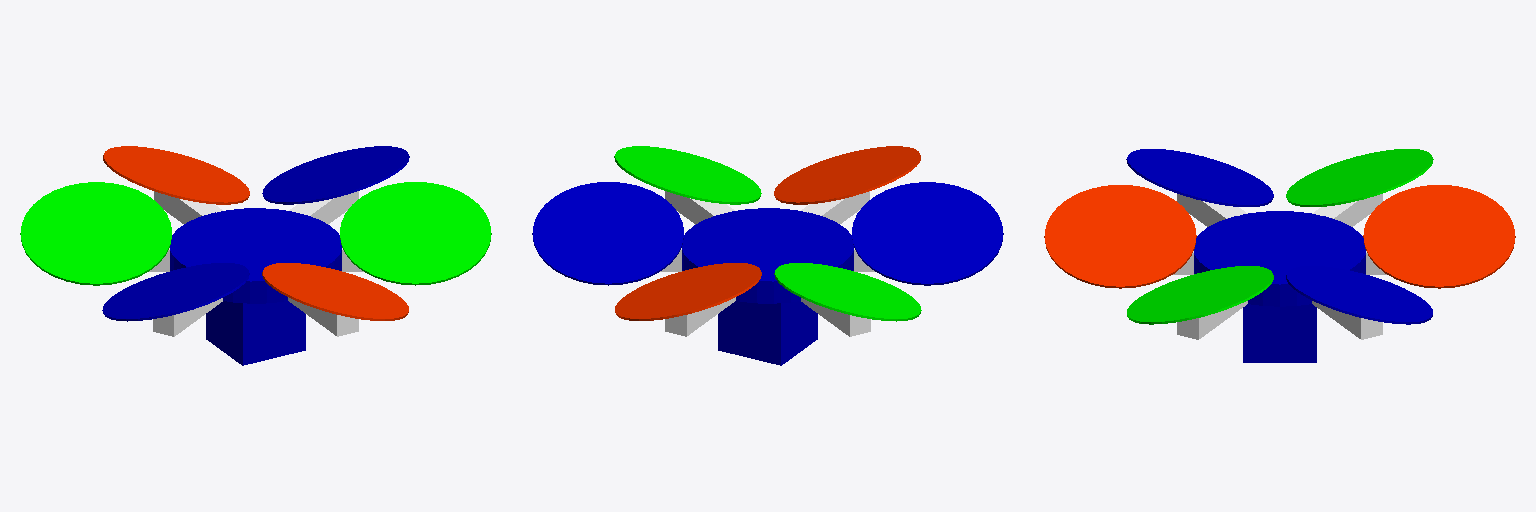
The robot description file, URDF, robot "morphing_robust":
<?xml version="1.0" ?>

<robot name="morphing_robust">

  <material name="white">
    <color rgba="1. 1. 1. 1.0"/>
  </material>

  <material name="black">
    <color rgba="0. 0. 0. 1.0"/>
  </material>

  <material name="blue0">
    <color rgba="15./255. 141./255. 238./255. 1.0"/>
  </material>

  <material name="darkgrey">
    <color rgba="0.4 0.4 0.4 1.0"/>
  </material>

  <material name="blue1">
    <color rgba="0.06 0.46 0.9 0.6"/>
  </material>

  <configuration type="morphing_hexa"/>

  <properties arm="1.0635" kf="1.9e-8" km="1.9e-9" thrust2weight="4" max_speed_kmh="30" gnd_eff_coeff="11.36859" prop_radius="6.7e-2" drag_coeff_xy="9.1785e-7" drag_coeff_z="10.311e-7" dw_coeff_1="2267.18" dw_coeff_2=".16" dw_coeff_3="-.11"/>

  <control>
    <indi actuator_nr="6" output_nr="6" />
    <indi_1 roll="  -7.5  -15.0   -7.5   7.5  15.0  7.5" />
    <indi_2 pitch=" -13.0   0.0   13.0  13.0   0.0 -13.0" />
    <indi_3 yaw="   -5.0    5.0   -5.0   5.0  -5.0   5.0" />
    <indi_4 fx=" -2.    4.   -2.   -2.    4.   -2." />
    <indi_5 fy=" -3.    0.   3.    -3.    0.   3." />
    <indi_6 fz="  1.5   1.5   1.5   1.5   1.5   1.5" />
<!--     <indi_4 fx=" -0.2    0.4    -0.2   -0.2   0.4   -0.2" />
    <indi_5 fy="  0.3    0.0    -0.3    0.3   0.0   -0.3" />
    <indi_6 fz="  1.5    1.5     1.5    1.5   1.5    1.5" /> -->

    <indi_guidance_gains>
      <pos kp="1.7" kd="2.5"/>
    </indi_guidance_gains>
    
    <indi_att_gains>
      <att  p="10." q="10." r="5." />
      <rate p="18." q="18." r="12." />
    </indi_att_gains>

    <pwm>
      <pwm2rpm scale="20000. 20000. 20000. 20000. 20000. 20000." const="0. 0. 0. 0. 0. 0." />
      <limit min="0. 0. 0. 0. 0. 0." max="1. 1. 1. 1. 1. 1." />
    </pwm>
  </control>



  <link name="mainbody">
    <visual>
      <geometry>
        <cylinder radius=".071" length=".02"/>
        <origin rpy="0 0 0" xyz="0.0 0.0 0.01"/>
      </geometry>
<!--       <geometry>
        <box size="0.2 0.01 0.01"/>
        <origin rpy="0 0 0" xyz="0.10 0.0 0.0"/>
      </geometry> -->
      <material name="blue">
        <color rgba="0 0 .8 1"/>
      </material>
    </visual>
    <collision>
      <geometry>
          <cylinder radius=".07" length=".02"/>
      </geometry>
      <origin xyz="0.0 0.0 0.0"/>
    </collision>
    <inertial>
      <mass value="0.2"/>
      <inertia ixx="2.0e-3" ixy="0.0" ixz="0.0" iyy="2.0e-3" iyz="0.0" izz="4.0e-3"/>
    </inertial>
  </link>

<link name="prop1">
    <visual>
      <geometry>
        <cylinder radius=".062" length=".002"/>
        <origin rpy="0 0 0" xyz="0.0 0.0 0.0"/>
      </geometry>
      <material name="green">
        <color rgba="0 1 0 0.4"/>
      </material>
    </visual>
    <inertial>
    <origin xyz="0.0 0.0 0.001"/>
      <mass value="0.03"/>
      <inertia ixx="1.0e-9" ixy="0.0" ixz="0.0" iyy="1.0e-9" iyz="0.0" izz="1.0e-9"/>
    </inertial>
     <collision>
      <geometry>
        <cylinder radius=".062" length=".002"/>
      </geometry>
      <origin rpy="0 0 0" xyz="0.0 0.0 0.001"/>
    </collision>
  </link>

<link name="prop2">
    <visual>
      <geometry>
        <cylinder radius=".062" length=".002"/>
        <origin rpy="0 0 0" xyz="0.0 0.0 0.0"/>
      </geometry>
      <material name="orange red">
        <color rgba="1 0.25 0 0.4"/>
      </material>
    </visual>
    <inertial>
    <origin xyz="0.0 0.0 0.001"/>
      <mass value="0.03"/>
      <inertia ixx="1.0e-9" ixy="0.0" ixz="0.0" iyy="1.0e-9" iyz="0.0" izz="1.0e-9"/>
    </inertial>
     <collision>
      <geometry>
        <cylinder radius=".062" length=".002"/>
      </geometry>
      <origin rpy="0 0 0" xyz="0.0 0.0 0.001"/>
    </collision>
  </link>

<link name="prop3">
    <visual>
      <geometry>
        <cylinder radius=".062" length=".002"/>
        <origin rpy="0 0 0" xyz="0.0 0.0 0.0"/>
      </geometry>
      <material name="blue_t">
        <color rgba="0 0 0.8 0.4"/>
      </material>
    </visual>
    <inertial>
    <origin xyz="0.0 0.0 0.001"/>
      <mass value="0.03"/>
      <inertia ixx="1.0e-9" ixy="0.0" ixz="0.0" iyy="1.0e-9" iyz="0.0" izz="1.0e-9"/>
    </inertial>
     <collision>
      <geometry>
        <cylinder radius=".062" length=".002"/>
      </geometry>
      <origin rpy="0 0 0" xyz="0.0 0.0 0.001"/>
    </collision>
  </link>

<link name="prop4">
    <visual>
      <geometry>
        <cylinder radius=".062" length=".002"/>
        <origin rpy="0 0 0" xyz="0.0 0.0 0.0"/>
      </geometry>
      <material name="green">
        <color rgba="0 1 0 0.4"/>
      </material>
    </visual>
    <inertial>
    <origin xyz="0.0 0.0 0.001"/>
      <mass value="0.03"/>
      <inertia ixx="1.0e-9" ixy="0.0" ixz="0.0" iyy="1.0e-9" iyz="0.0" izz="1.0e-9"/>
    </inertial>
     <collision>
      <geometry>
        <cylinder radius=".062" length=".002"/>
      </geometry>
      <origin rpy="0 0 0" xyz="0.0 0.0 0.001"/>
    </collision>
  </link>

<link name="prop5">
    <visual>
      <geometry>
        <cylinder radius=".062" length=".002"/>
        <origin rpy="0 0 0" xyz="0.0 0.0 0.0"/>
      </geometry>
      <material name="orange red">
        <color rgba="1 0.25 0 0.4"/>
      </material>
    </visual>
    <inertial>
    <origin xyz="0.0 0.0 0.001"/>
      <mass value="0.03"/>
      <inertia ixx="1.0e-9" ixy="0.0" ixz="0.0" iyy="1.0e-9" iyz="0.0" izz="1.0e-9"/>
    </inertial>
     <collision>
      <geometry>
        <cylinder radius=".062" length=".002"/>
      </geometry>
      <origin rpy="0 0 0" xyz="0.0 0.0 0.001"/>
    </collision>
  </link>

<link name="prop6">
    <visual>
      <geometry>
        <cylinder radius=".062" length=".002"/>
        <origin rpy="0 0 0" xyz="0.0 0.0 0.0"/>
      </geometry>
      <material name="blue_t">
        <color rgba="0 0 0.8 0.4"/>
      </material>
    </visual>
    <inertial>
    <origin xyz="0.0 0.0 0.001"/>
      <mass value="0.03"/>
      <inertia ixx="1.0e-9" ixy="0.0" ixz="0.0" iyy="1.0e-9" iyz="0.0" izz="1.0e-9"/>
    </inertial>
     <collision>
      <geometry>
        <cylinder radius=".062" length=".002"/>
      </geometry>
      <origin rpy="0 0 0" xyz="0.0 0.0 0.001"/>
    </collision>
  </link>

  <link name="landinggear">
    <visual>
      <geometry>
        <box size="0.06 0.06 0.06"/>
        <origin rpy="0 0 0" xyz="0.0 0.0 0.0"/>
      </geometry>
      <material name="blue">
        <color rgba="0 0 .8 1"/>
      </material>
    </visual>
    <collision>
      <geometry>
          <box size="0.06 0.06 0.06"/>
      </geometry>
      <origin xyz="0.0 0.0 0.0"/>
    </collision>
    <inertial>
      <mass value="0.3"/>
      <inertia ixx="1.0e-9" ixy="0.0" ixz="0.0" iyy="1.0e-9" iyz="0.0" izz="1.0e-9"/>
    </inertial>
  </link>

<link name="arm1">
    <visual>
      <geometry>
        <box size="0.08 0.02 0.02"/> 
      </geometry>
      <origin rpy="0 0 0" xyz="0.04 0.0 0.0"/>
      <material name="white">
        <color rgba="1 1 1 1"/>
      </material>
    </visual>
    <inertial>
    <origin xyz="0.04 0.01 0.01"/>
      <mass value="0.03"/>
      <inertia ixx="1.0e-9" ixy="0.0" ixz="0.0" iyy="1.0e-9" iyz="0.0" izz="1.0e-9"/>
    </inertial>
     <collision>
      <geometry>
        <box size="0.08 0.02 0.02"/> 
      </geometry>
      <origin rpy="0 0 0" xyz="0.04 0.01 0.01"/>
    </collision>
  </link>

<link name="arm2">
    <visual>
      <geometry>
        <box size="0.08 0.02 0.02"/> 
      </geometry>
      <origin rpy="0 0 0" xyz="0.04 0.0 0.0"/>
      <material name="white">
        <color rgba="1 1 1 1"/>
      </material>
    </visual>
    <inertial>
    <origin xyz="0.04 0.01 0.01"/>
      <mass value="0.03"/>
      <inertia ixx="1.0e-9" ixy="0.0" ixz="0.0" iyy="1.0e-9" iyz="0.0" izz="1.0e-9"/>
    </inertial>
     <collision>
      <geometry>
        <box size="0.08 0.02 0.02"/> 
      </geometry>
      <origin rpy="0 0 0" xyz="0.04 0.01 0.01"/>
    </collision>
  </link>

  <link name="arm3">
    <visual>
      <geometry>
        <box size="0.08 0.02 0.02"/> 
      </geometry>
      <origin rpy="0 0 0" xyz="0.04 0.0 0.0"/>
      <material name="white">
        <color rgba="1 1 1 1"/>
      </material>
    </visual>
    <inertial>
    <origin xyz="0.04 0.01 0.01"/>
      <mass value="0.03"/>
      <inertia ixx="1.0e-9" ixy="0.0" ixz="0.0" iyy="1.0e-9" iyz="0.0" izz="1.0e-9"/>
    </inertial>
     <collision>
      <geometry>
        <box size="0.08 0.02 0.02"/> 
      </geometry>
      <origin rpy="0 0 0" xyz="0.04 0.01 0.01"/>
    </collision>
  </link>

    <link name="arm4">
     <visual>
      <geometry>
        <box size="0.08 0.02 0.02"/> 
      </geometry>
      <origin rpy="0 0 0" xyz="0.04 0.0 0.0"/>
      <material name="white">
        <color rgba="1 1 1 1"/>
      </material>
    </visual>
    <inertial>
    <origin xyz="0.04 0.01 0.01"/>
      <mass value="0.03"/>
      <inertia ixx="1.0e-9" ixy="0.0" ixz="0.0" iyy="1.0e-9" iyz="0.0" izz="1.0e-9"/>
    </inertial>
     <collision>
      <geometry>
        <box size="0.08 0.02 0.02"/> 
      </geometry>
      <origin rpy="0 0 0" xyz="0.04 0.01 0.01"/>
    </collision>
  </link>

    <link name="arm5">
     <visual>
      <geometry>
        <box size="0.08 0.02 0.02"/> 
      </geometry>
      <origin rpy="0 0 0" xyz="0.04 0.0 0.0"/>
      <material name="white">
        <color rgba="1 1 1 1"/>
      </material>
    </visual>
    <inertial>
    <origin xyz="0.04 0.01 0.01"/>
      <mass value="0.03"/>
      <inertia ixx="1.0e-9" ixy="0.0" ixz="0.0" iyy="1.0e-9" iyz="0.0" izz="1.0e-9"/>
    </inertial>
     <collision>
      <geometry>
        <box size="0.08 0.02 0.02"/> 
      </geometry>
      <origin rpy="0 0 0" xyz="0.048 0.01 0.01"/>
    </collision>
  </link>

    <link name="arm6">
    <visual>
      <geometry>
        <box size="0.08 0.02 0.02"/> 
      </geometry>
      <origin rpy="0 0 0" xyz="0.04 0.0 0.0"/>
      <material name="white">
        <color rgba="1 1 1 1"/>
      </material>
    </visual>
    <inertial>
    <origin xyz="0.04 0.01 0.01"/>
      <mass value="0.03"/>
      <inertia ixx="1.0e-9" ixy="0.0" ixz="0.0" iyy="1.0e-9" iyz="0.0" izz="1.0e-9"/>
    </inertial>
     <collision>
      <geometry>
        <box size="0.08 0.02 0.02"/> 
      </geometry>
      <origin rpy="0 0 0" xyz="0.045 0.01 0.01"/>
    </collision>
  </link>

  <joint name="body_to_arm1" type="revolute">
    <axis xyz="0 0 1"/>
    <origin rpy="0 0 -0.523" xyz="0.061 -0.035 0"/>
    <parent link="mainbody"/>
    <child link="arm1"/>
    <limit effort="1" velocity="0.5"/>
    <joint_properties damping="0.0" friction="0.0"/>
  </joint>

    <joint name="body_to_arm2" type="revolute">
    <axis xyz="0 0 1"/>
    <origin rpy="0 0 -1.57" xyz="0.0 -0.07 0"/>
    <parent link="mainbody"/>
    <child link="arm2"/>
    <limit effort="1" velocity="0.5"/>
    <joint_properties damping="0.0" friction="0.0"/>
  </joint>

    <joint name="body_to_arm3" type="revolute">
    <axis xyz="0 0 1"/>
    <origin rpy="0 0 -2.617" xyz="-0.061 -0.035 0"/>
    <parent link="mainbody"/>
    <child link="arm3"/>
    <limit effort="1" velocity="0.5"/>
    <joint_properties damping="0.0" friction="0.0"/>
  </joint>

  <joint name="body_to_arm4" type="revolute">
    <axis xyz="0 0 1"/>
    <origin rpy="0 0 2.617" xyz="-0.061 0.035 0"/>
    <parent link="mainbody"/>
    <child link="arm4"/>
    <limit effort="1" velocity="0.5"/>
    <joint_properties damping="0.0" friction="0.0"/>
  </joint>

    <joint name="body_to_arm5" type="revolute">
    <axis xyz="0 0 1"/>
    <origin rpy="0 0 1.57" xyz="0.0 0.07 0"/>
    <parent link="mainbody"/>
    <child link="arm5"/>
    <limit effort="1" velocity="0.5"/>
    <joint_properties damping="0.0" friction="0.0"/>
  </joint>

    <joint name="body_to_arm6" type="revolute">
    <axis xyz="0 0 1"/>
    <origin rpy="0 0 .523" xyz="0.061 0.035 0"/>
    <parent link="mainbody"/>
    <child link="arm6"/>
    <limit effort="1" velocity="0.5"/>
    <joint_properties damping="0.0" friction="0.0"/>
  </joint>

  <joint name="body_to_landinggear" type="fixed">
    <origin rpy="0 0 0" xyz="0.0 0.0 -0.05"/>
    <parent link="mainbody"/>
    <child link="landinggear"/>
  </joint>

  <joint name="arm1_to_prop1" type="fixed">
    <origin rpy="0.3 0 0" xyz="0.06 0.0 0.02"/>
    <parent link="arm1"/>
    <child link="prop1"/>
  </joint>

    <joint name="arm2_to_prop2" type="fixed">
    <origin rpy="-0.3 0 0" xyz="0.06 0.0 0.02"/>
    <parent link="arm2"/>
    <child link="prop2"/>
  </joint>

  <joint name="arm3_to_prop3" type="fixed">
    <origin rpy="0.3 0 0" xyz="0.06 0.0 0.02"/>
    <parent link="arm3"/>
    <child link="prop3"/>
  </joint>

  <joint name="arm4_to_prop4" type="fixed">
    <origin rpy="-0.3 0 0" xyz="0.06 0.0 0.02"/>
    <parent link="arm4"/>
    <child link="prop4"/>
  </joint>

  <joint name="arm5_to_prop5" type="fixed">
    <origin rpy="0.3 0 0" xyz="0.06 0.0 0.02"/>
    <parent link="arm5"/>
    <child link="prop5"/>
  </joint>

  <joint name="arm6_to_prop6" type="fixed">
    <origin rpy="-0.3 0 0" xyz="0.06 0.0 0.02"/>
    <parent link="arm6"/>
    <child link="prop6"/>
  </joint>


</robot>

--- Facts derived from the render (not from the file) ---
Views: 3 orthographic renders of the robot side by side, from view 1: azimuth 30°, elevation 25°; view 2: azimuth 150°, elevation 25°; view 3: azimuth 270°, elevation 25°.
Model morphing_robust with 14 links and 13 joints (6 revolute, 7 fixed), rooted at mainbody, posed all joints at 0.
Links seen in each view (by area): view 1: prop4, prop1, mainbody, prop5, prop6, prop3, prop2, landinggear, arm6, arm5, arm2, arm3; view 2: prop3, prop6, mainbody, prop2, prop1, prop4, prop5, landinggear, arm1, arm2, arm5, arm4; view 3: prop2, prop5, mainbody, prop1, prop6, prop3, prop4, landinggear, arm4, arm3, arm1, arm6.
Link boxes in pixels (x1,y1,x2,y2): prop4: [20, 182, 171, 285]; prop1: [340, 182, 491, 285]; mainbody: [170, 208, 341, 303]; prop5: [103, 146, 249, 204]; prop6: [262, 146, 409, 204]; prop3: [102, 263, 249, 321]; prop2: [262, 263, 408, 320]; landinggear: [206, 301, 305, 365]; arm6: [289, 191, 358, 224]; arm5: [154, 191, 222, 223]; arm2: [288, 297, 358, 336]; arm3: [153, 298, 222, 336]; prop3: [852, 182, 1003, 285]; prop6: [532, 182, 683, 285]; mainbody: [682, 208, 853, 303]; prop2: [774, 146, 920, 204]; prop1: [614, 146, 761, 204]; prop4: [774, 263, 921, 321]; prop5: [615, 263, 761, 320]; landinggear: [718, 301, 817, 365]; arm1: [665, 191, 734, 224]; arm2: [801, 191, 869, 223]; arm5: [665, 297, 735, 336]; arm4: [801, 298, 870, 336]; prop2: [1044, 185, 1196, 288]; prop5: [1363, 185, 1515, 288]; mainbody: [1194, 211, 1365, 306]; prop1: [1127, 266, 1273, 324]; prop6: [1286, 266, 1432, 324]; prop3: [1126, 149, 1273, 206]; prop4: [1286, 149, 1433, 206]; landinggear: [1243, 304, 1316, 362]; arm4: [1312, 194, 1382, 226]; arm3: [1177, 194, 1247, 226]; arm1: [1177, 301, 1247, 339]; arm6: [1312, 301, 1382, 339].
Bounding box of the posed robot: 0.3484 × 0.384 × 0.1193 m (x, y, z).
Geometry: primitives only (box / cylinder / sphere), no mesh files.